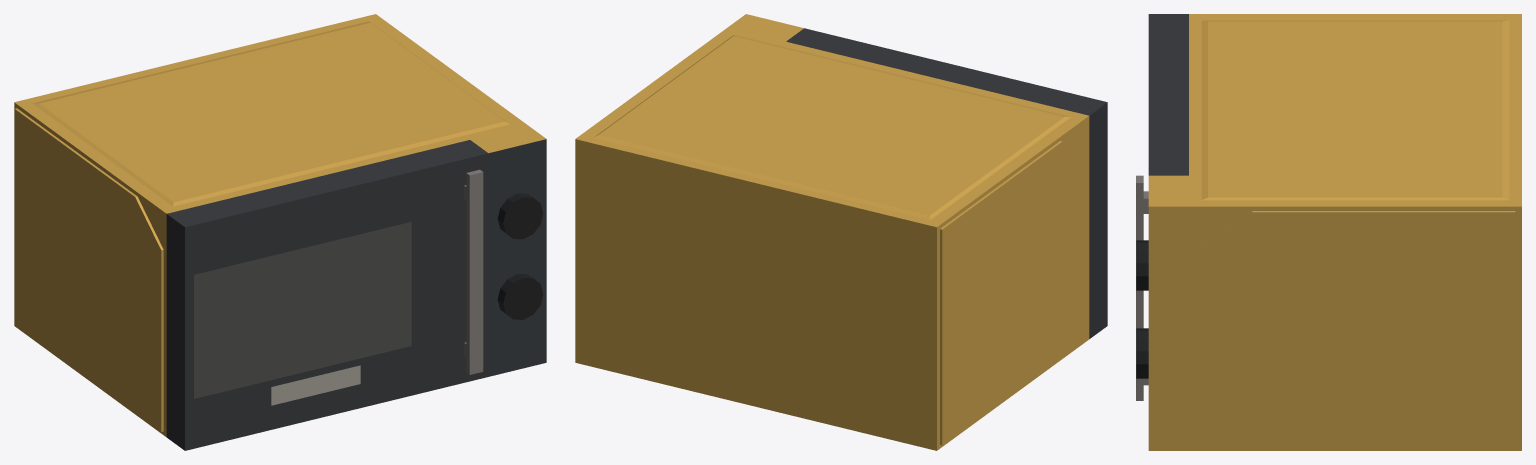
File: microwavewitchverticalhandle_01_D.gltf
3 views of the same model, side by side, from view 1: azimuth 30°, elevation 25°; view 2: azimuth 150°, elevation 25°; view 3: azimuth 270°, elevation 25° (orthographic). The views are drawn at different scales.
Parts seen in each view (by area): view 1: microwavewitchverticalhandle_01_D, Doorformicrowavewitchverticalhandle_01_D, Switchformicrowavewitchverticalhandle_01_D, Switchformicrowavewitchverticalhandle_02_D; view 2: microwavewitchverticalhandle_01_D, Doorformicrowavewitchverticalhandle_01_D; view 3: microwavewitchverticalhandle_01_D, Doorformicrowavewitchverticalhandle_01_D, Switchformicrowavewitchverticalhandle_01_D, Switchformicrowavewitchverticalhandle_02_D.
Boxes of the visible parts, x1,y1,x2,y2 form: microwavewitchverticalhandle_01_D: (14, 14, 546, 436); Doorformicrowavewitchverticalhandle_01_D: (166, 140, 488, 450); Switchformicrowavewitchverticalhandle_01_D: (497, 193, 543, 239); Switchformicrowavewitchverticalhandle_02_D: (497, 273, 543, 319); microwavewitchverticalhandle_01_D: (575, 14, 1089, 450); Doorformicrowavewitchverticalhandle_01_D: (786, 28, 1107, 338); microwavewitchverticalhandle_01_D: (1148, 14, 1521, 450); Doorformicrowavewitchverticalhandle_01_D: (1136, 14, 1188, 400); Switchformicrowavewitchverticalhandle_01_D: (1136, 240, 1148, 290); Switchformicrowavewitchverticalhandle_02_D: (1136, 328, 1148, 378).
Size of the model in its own units: 0.446 by 0.2614 by 0.3721.
1 material, 1 textured.
